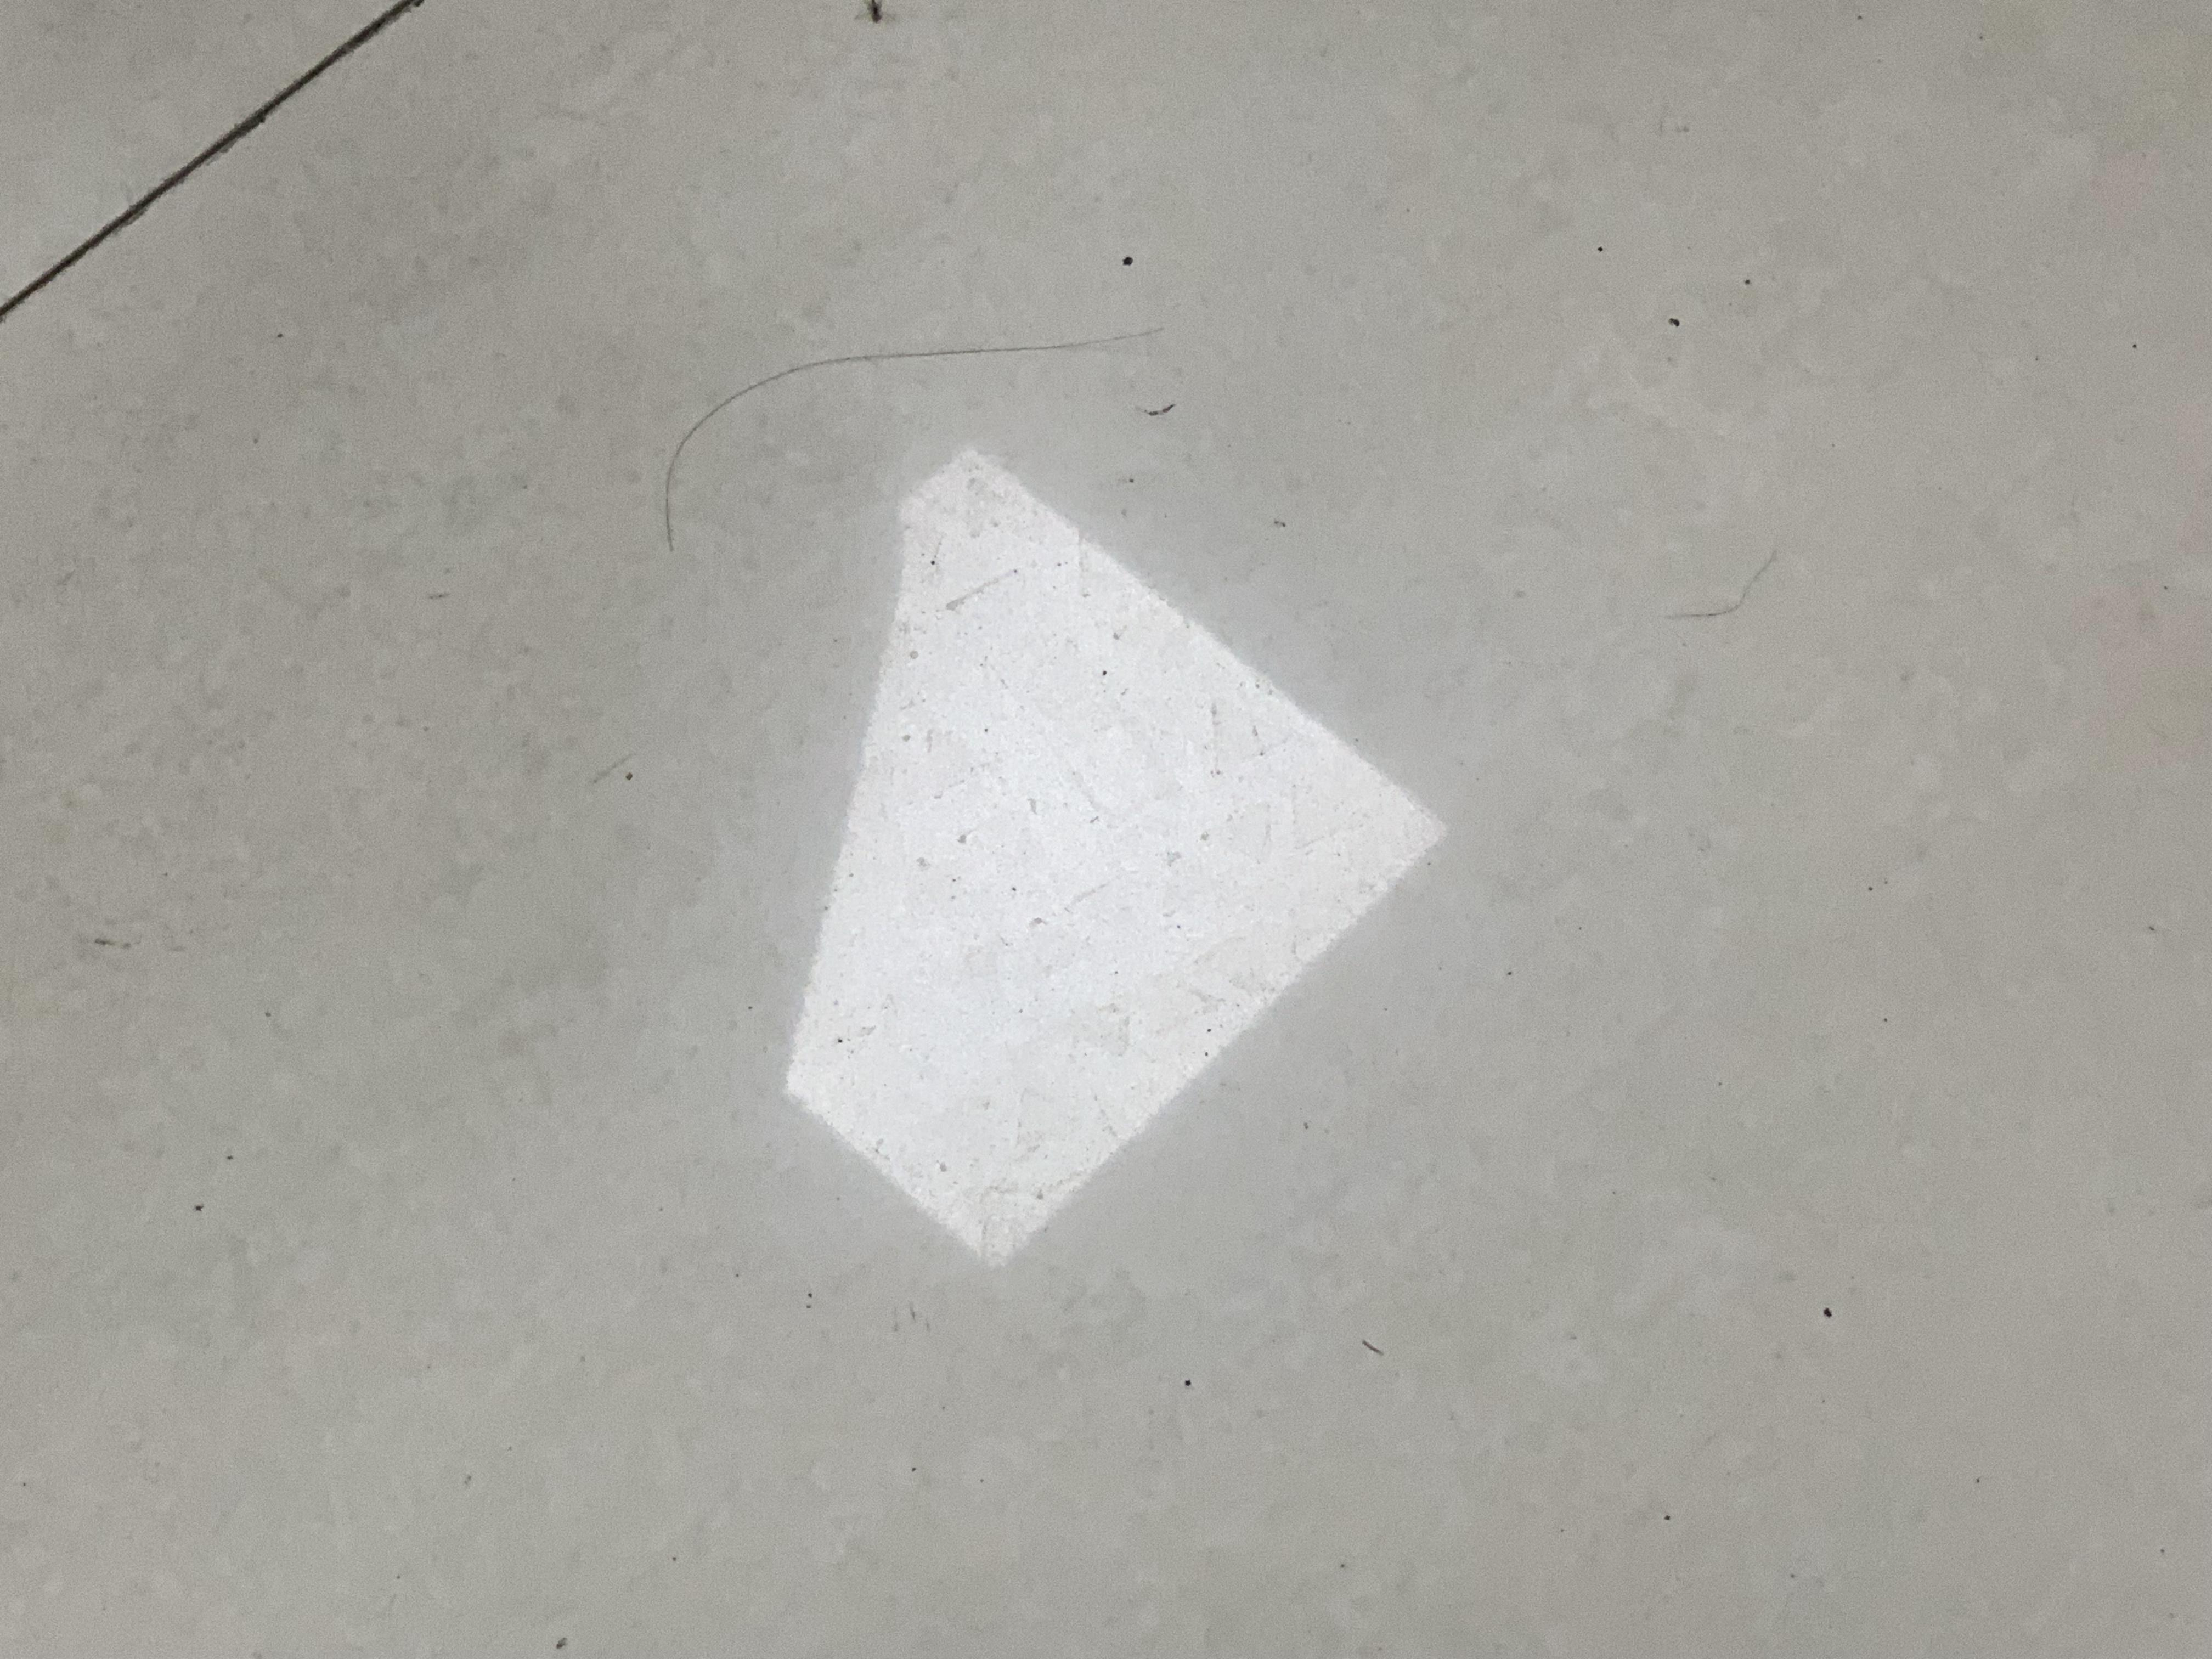reflection: (780, 446, 1451, 1272)
